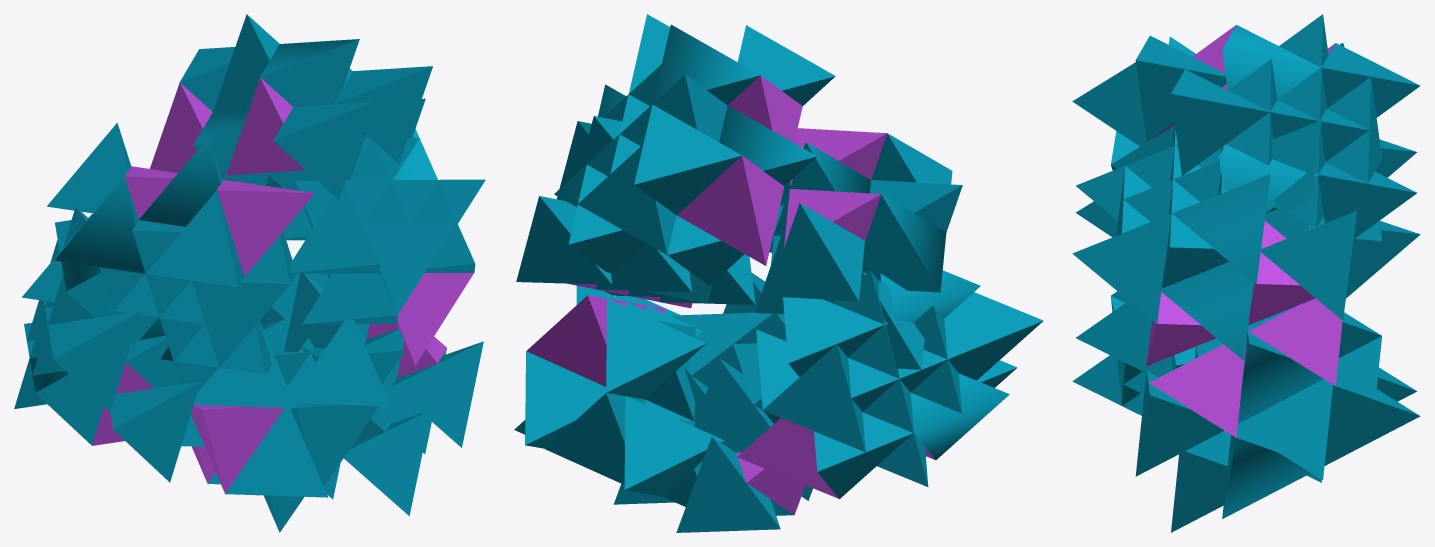
Rendered from customMassing_InsulinHexamer_V4_240712.fbx.
The picture shows the model from 3 angles, left to right: view 1: azimuth 30°, elevation 25°; view 2: azimuth 150°, elevation 25°; view 3: azimuth 270°, elevation 25°; orthographic projection. The views are drawn at different scales.
Parts seen in each view (by area): view 1: MonomerV5_05, MonomerV6_06, MonomerV3_01, MonomerV3_03, MonomerV4_04, MonomerV3_02; view 2: MonomerV6_06, MonomerV4_04, MonomerV3_02, MonomerV5_05, MonomerV3_03, MonomerV3_01; view 3: MonomerV3_01, MonomerV3_02, MonomerV6_06, MonomerV3_03, MonomerV5_05, MonomerV4_04.
Boxes of the visible parts, x1,y1,x2,y2 form: MonomerV5_05: [22, 122, 314, 392]; MonomerV6_06: [150, 14, 432, 207]; MonomerV3_01: [283, 129, 485, 365]; MonomerV3_03: [181, 320, 404, 532]; MonomerV4_04: [14, 206, 200, 482]; MonomerV3_02: [259, 273, 483, 515]; MonomerV6_06: [554, 14, 835, 285]; MonomerV4_04: [737, 270, 1043, 499]; MonomerV3_02: [514, 285, 724, 506]; MonomerV5_05: [755, 128, 962, 369]; MonomerV3_03: [613, 273, 812, 532]; MonomerV3_01: [516, 116, 755, 308]; MonomerV3_01: [1072, 120, 1357, 366]; MonomerV3_02: [1135, 298, 1420, 532]; MonomerV6_06: [1135, 14, 1420, 238]; MonomerV3_03: [1072, 291, 1321, 482]; MonomerV5_05: [1072, 36, 1344, 237]; MonomerV4_04: [1305, 139, 1420, 298].
Bounding box in the file's own units: 5301 × 5499 × 3653.
